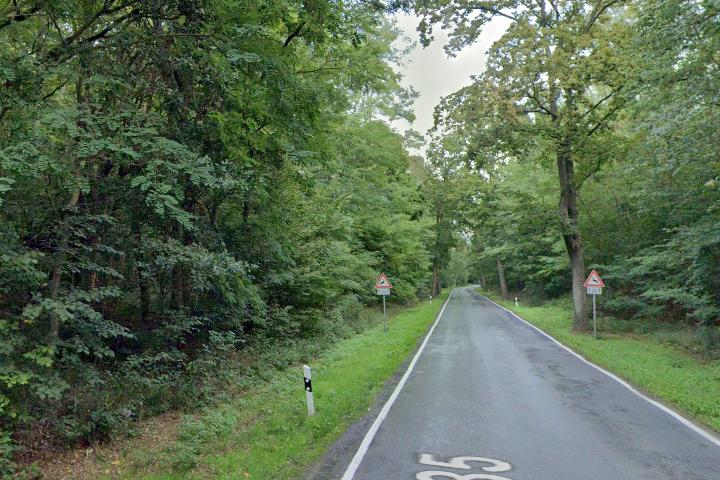traffic_sign: (582, 269, 606, 288), (374, 272, 393, 289)
